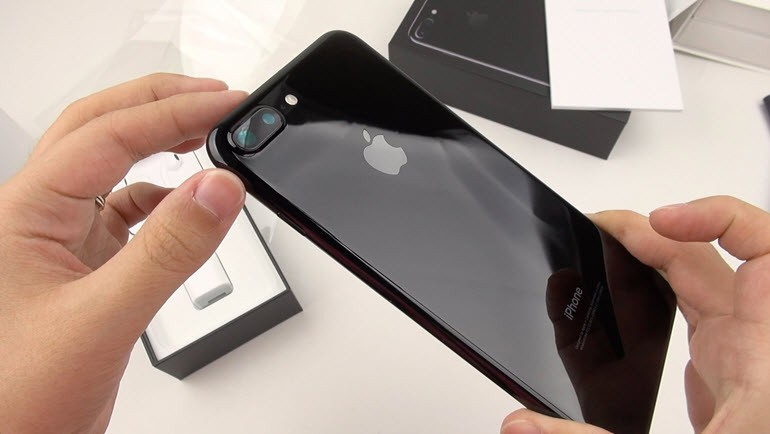apple: (353, 121, 421, 203)
